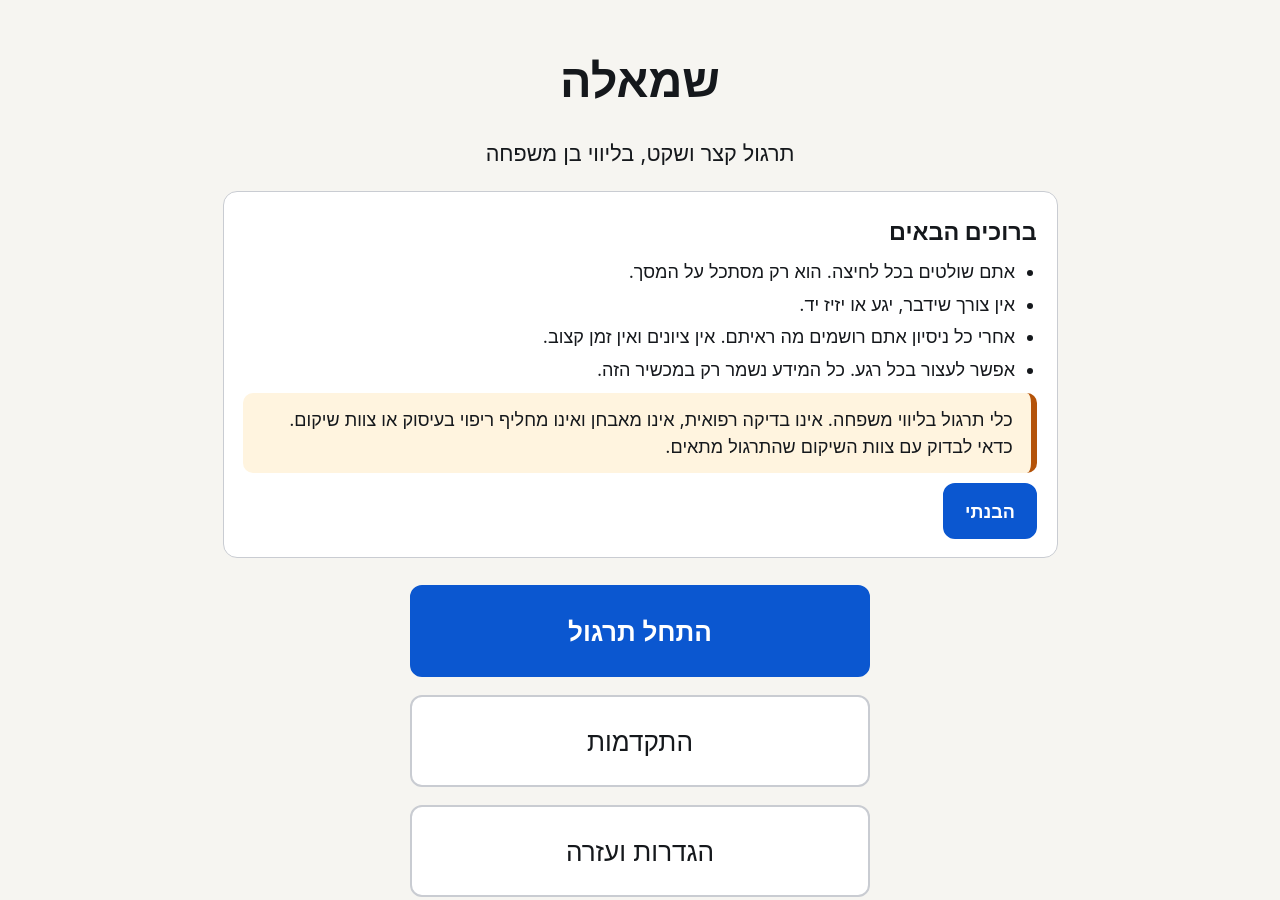
Scenario: family flow through the UI › no response / unclear / fatigue remain distinct records
Later steps or results of the test are not shown.
Click the button with test id "home-start" at [640, 631], box [410,585,870,677]
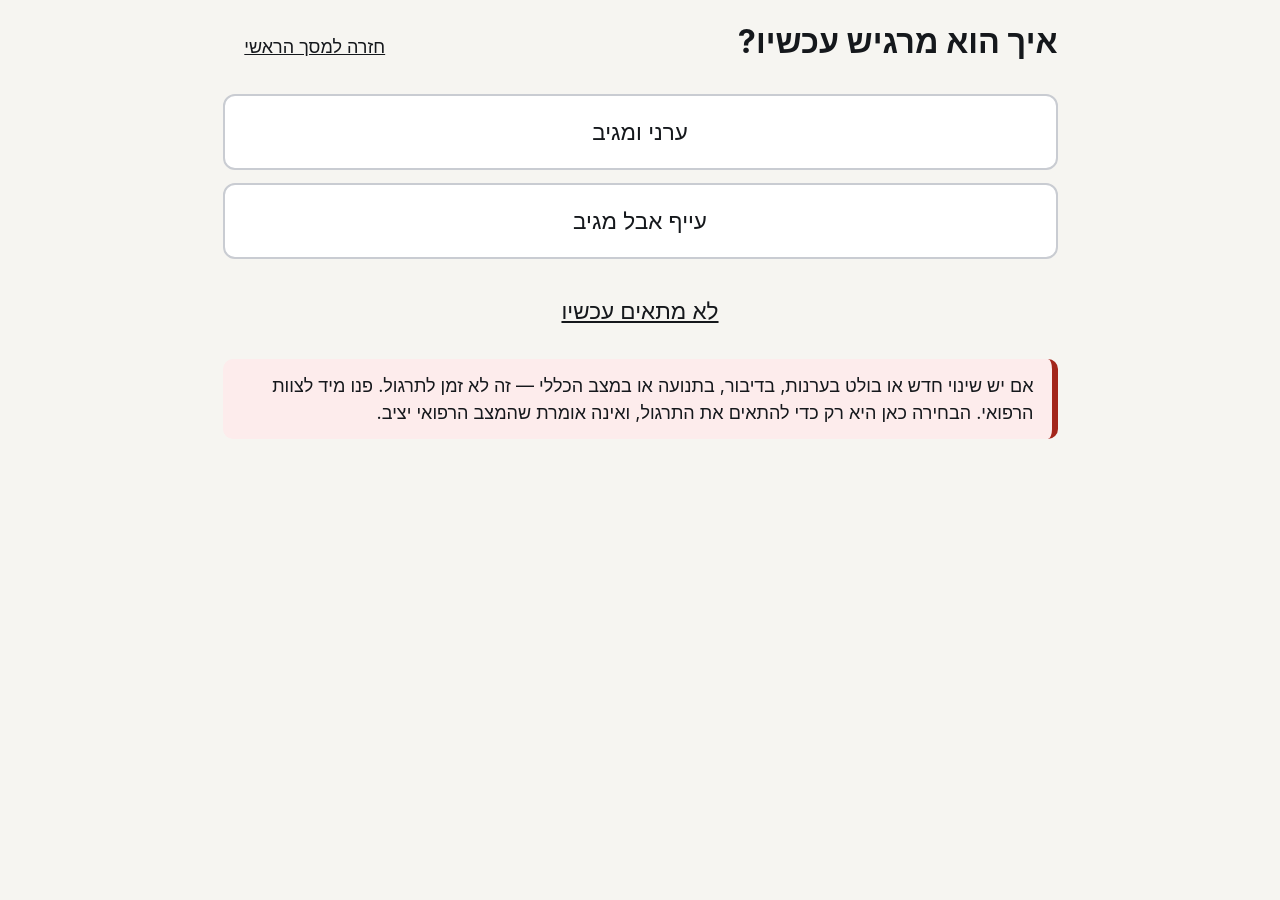
Click the button with test id "readiness-tired" at [640, 221], box [222,183,1058,259]
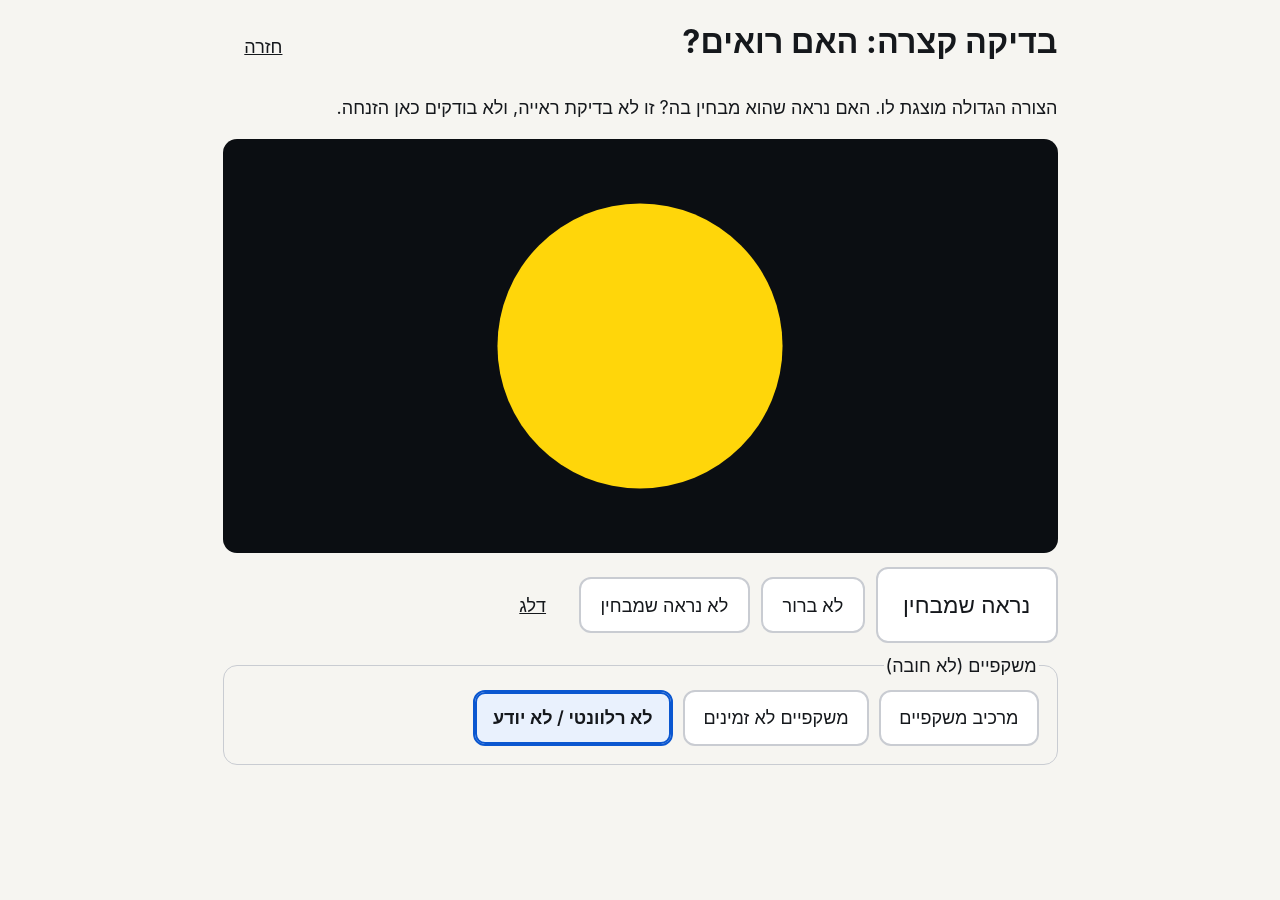
Click the button with test id "vision-noticed" at [967, 605], box [876,567,1058,643]
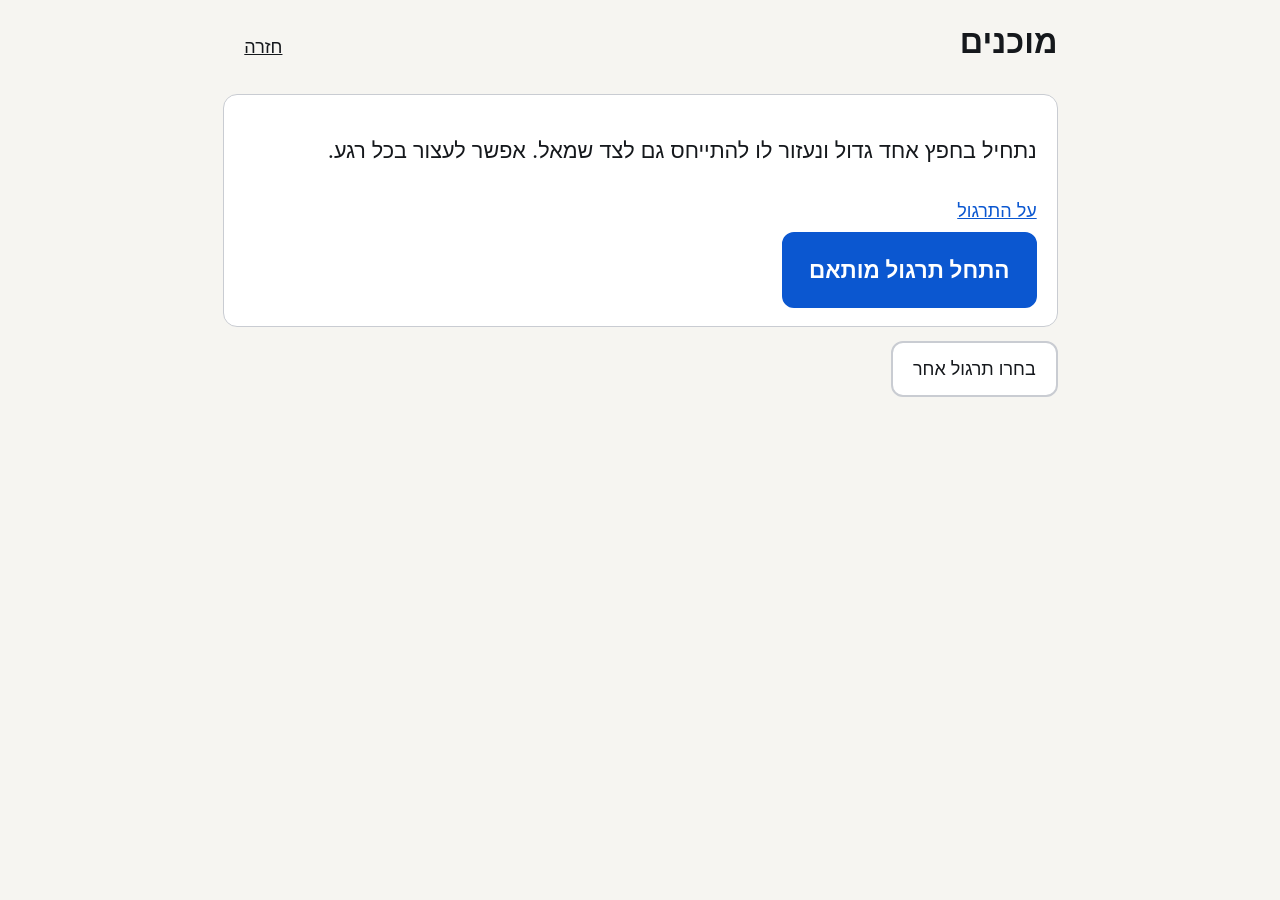
Check: the text with test id "start-sentence" shows "נתחיל בחפץ אחד גדול", box [328,137,1037,163]
Click the button with test id "start-adapted" at [909, 270], box [782,232,1037,308]
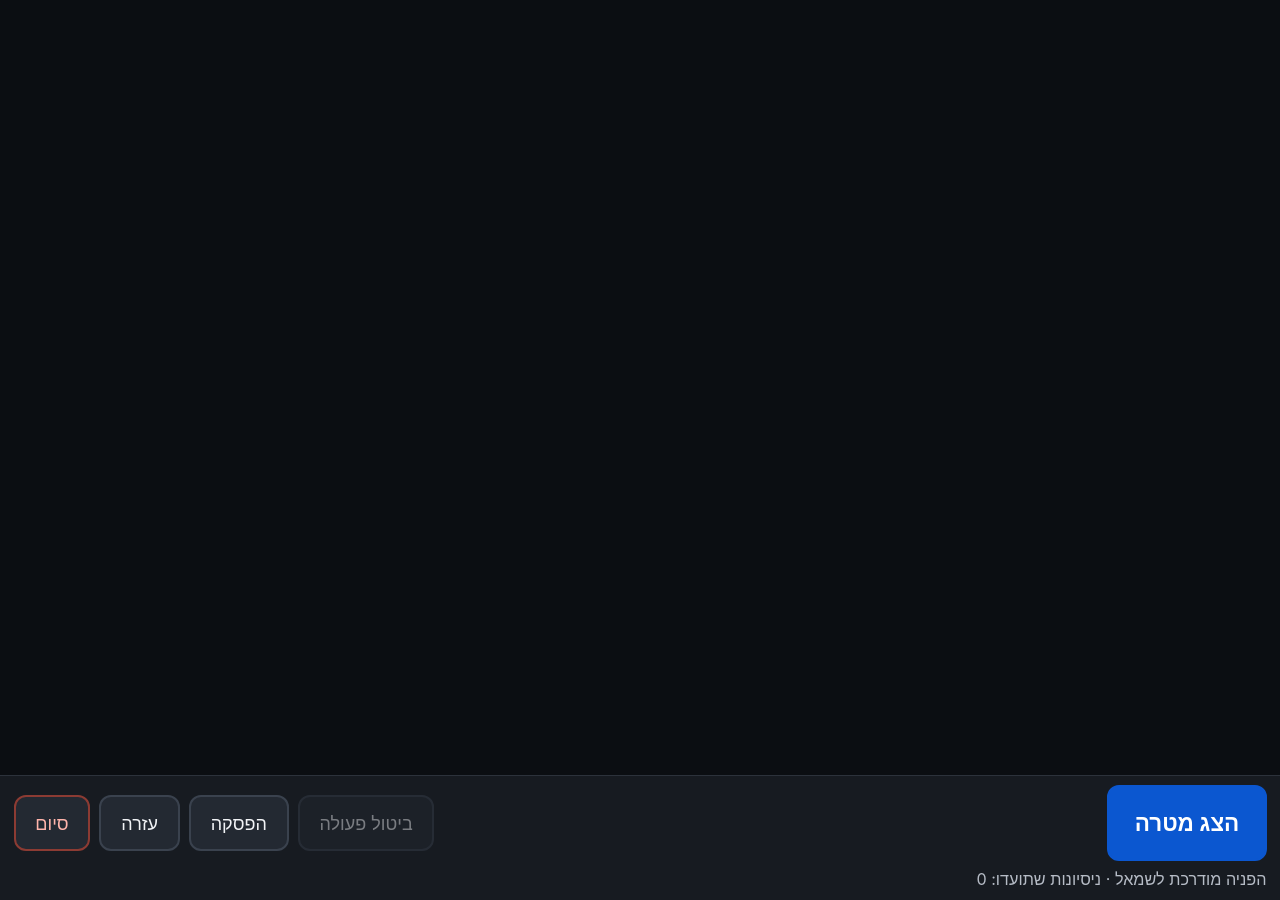
Check: the button with test id "show-target" is shown, box [1108,785,1266,861]
